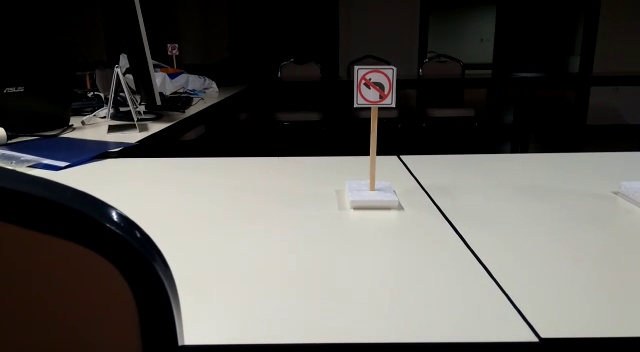sola_donulmez: (352, 65, 397, 110)
